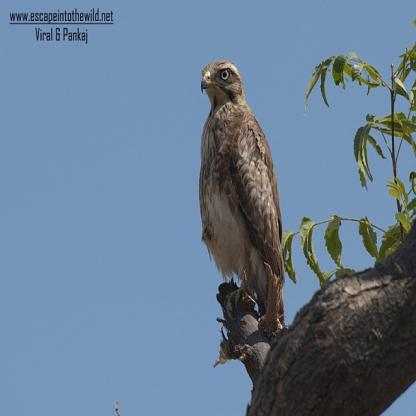Burung: (192, 58, 298, 336)
